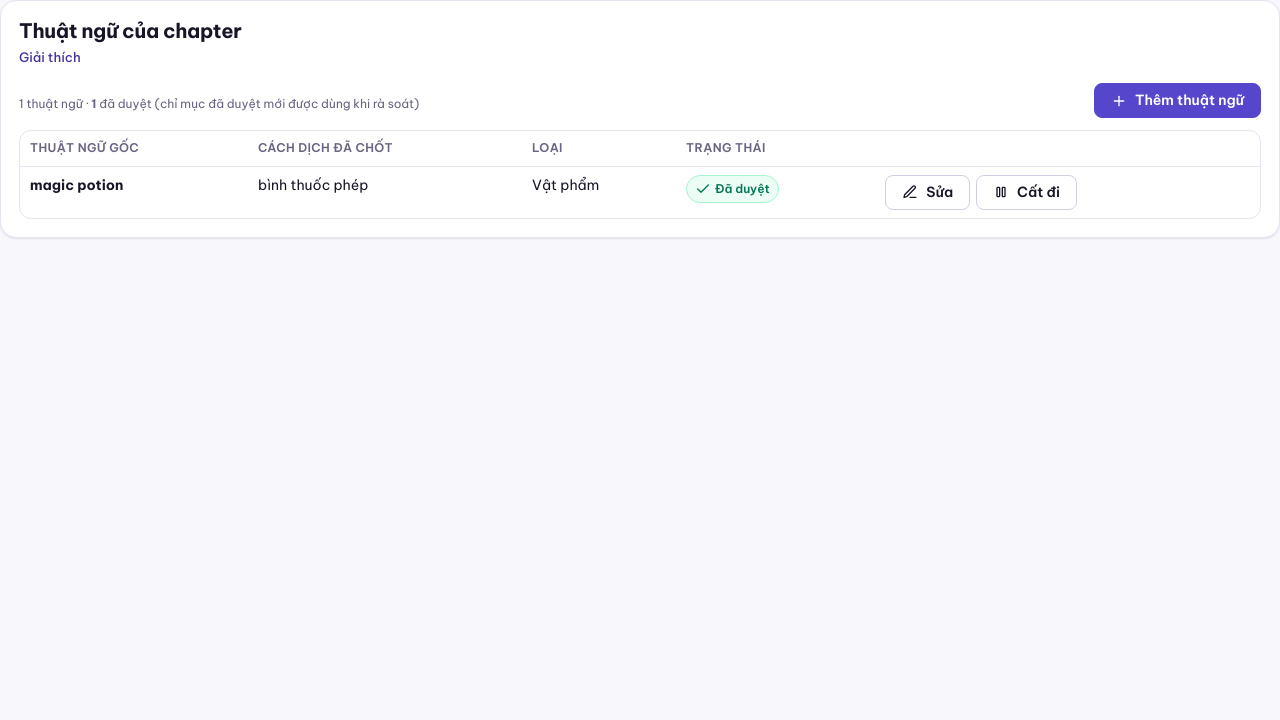
Scenario: bảng thuật ngữ › cảnh báo rõ khi sửa mục đã duyệt
Click the button "Sửa" at (928, 192), box [885, 175, 970, 210]
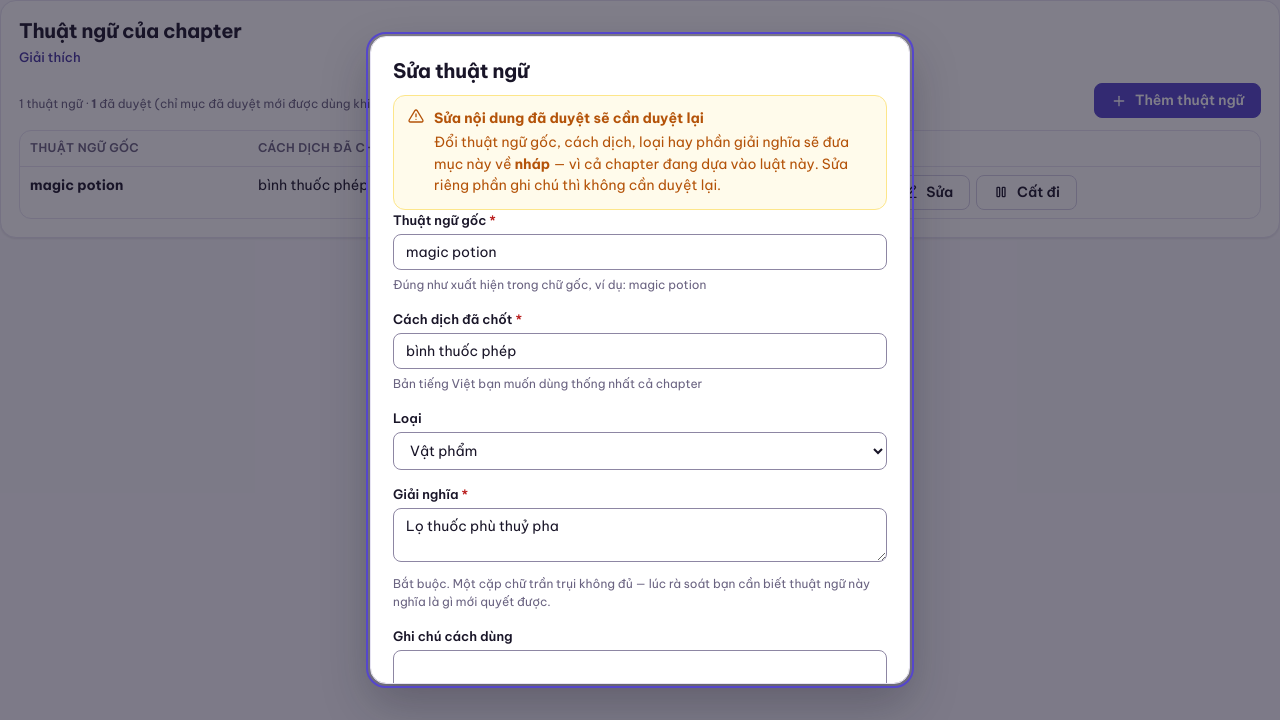
expect the text "Sửa nội dung đã duyệt sẽ cần duyệt lại" is shown: met, box [434, 109, 704, 127]
